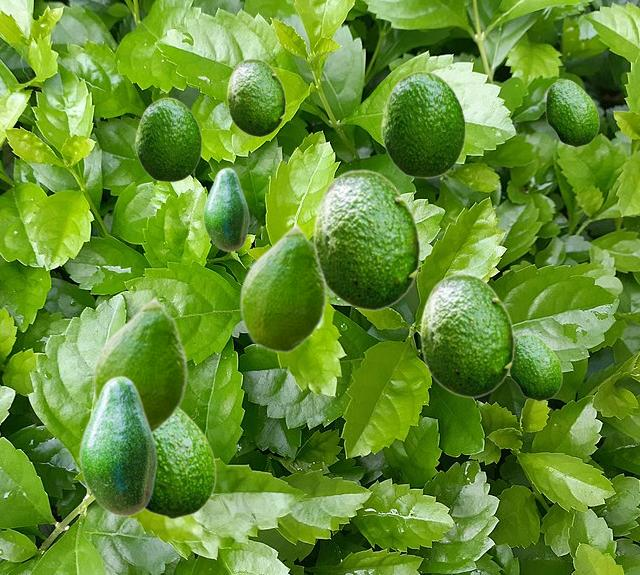avocado: (312, 169, 420, 310), (92, 295, 187, 434), (419, 273, 514, 397), (239, 222, 326, 352), (78, 375, 156, 516), (381, 70, 465, 177), (145, 407, 215, 518), (135, 97, 201, 181), (226, 58, 285, 136), (202, 167, 248, 251), (545, 79, 598, 146), (509, 333, 561, 400)
